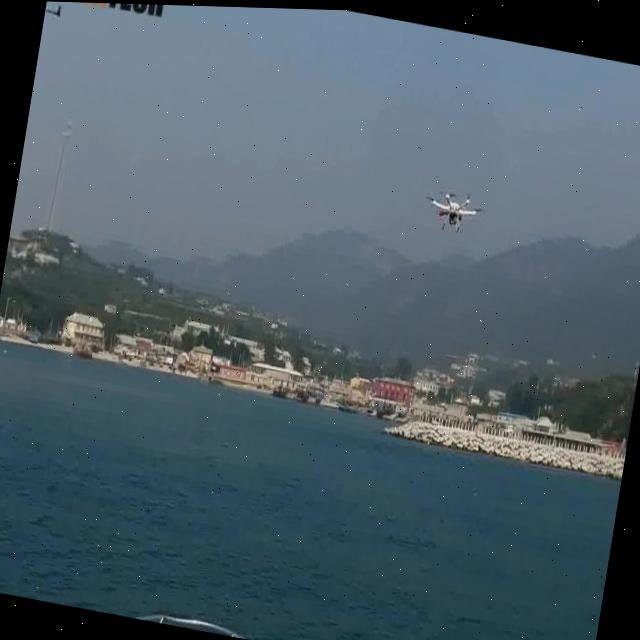drone: (416, 178, 492, 246)
